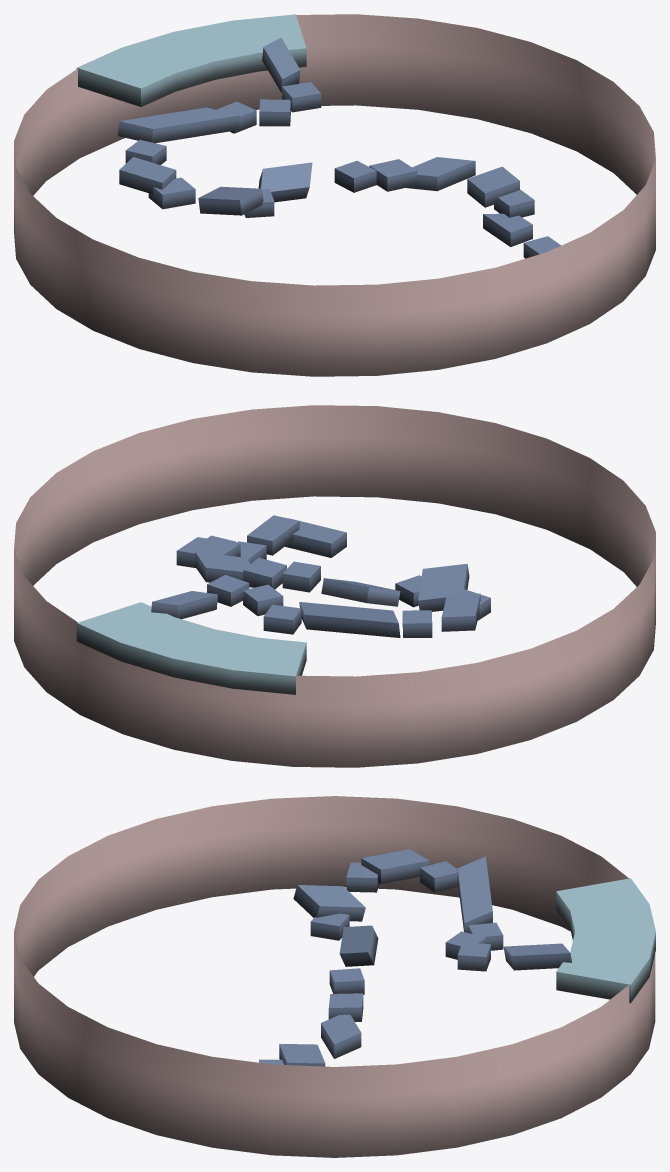
Rendered from Chunk04.glb.
3 views of the same model, one above another, from view 1: azimuth 30°, elevation 25°; view 2: azimuth 150°, elevation 25°; view 3: azimuth 270°, elevation 25° (orthographic).
Visible parts, largest first — view 1: Chunk04; view 2: Chunk04; view 3: Chunk04.
Boxes of the visible parts, box(x1,y1,x2,y2) form: Chunk04: box(14, 14, 655, 376); Chunk04: box(14, 405, 655, 767); Chunk04: box(14, 796, 655, 1157).
Size of what is drawn, in the model's own units: 69.14 by 13.05 by 69.22.
1 material, 1 textured.
